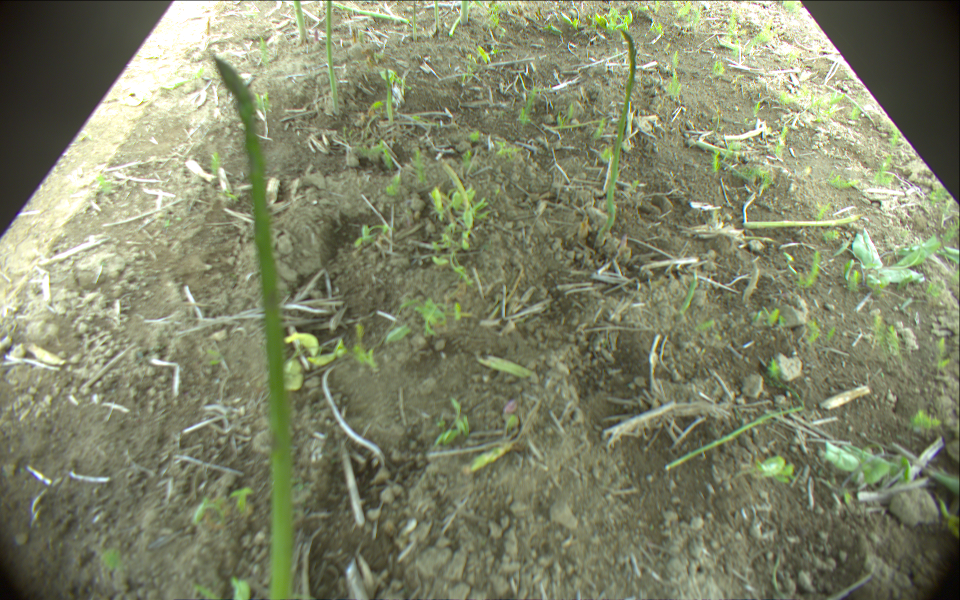aspa: (212, 54, 295, 600), (599, 28, 638, 248), (666, 407, 803, 469), (323, 1, 340, 113), (745, 213, 867, 228), (337, 1, 409, 23), (465, 442, 512, 471), (478, 356, 531, 379), (695, 140, 748, 158), (449, 1, 470, 35), (383, 67, 395, 123), (294, 1, 308, 43), (410, 1, 418, 41), (462, 1, 471, 22), (434, 1, 439, 34)
